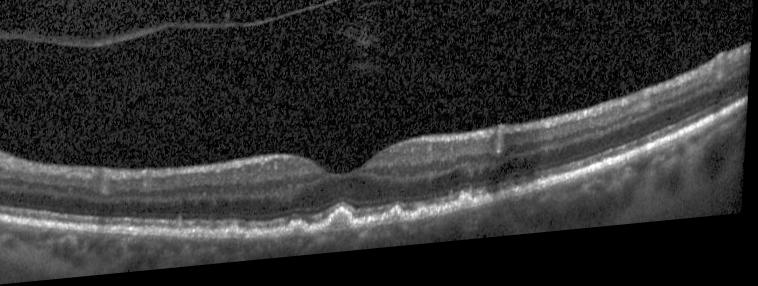retinal_drusen: (332, 217, 353, 239), (230, 229, 250, 245), (384, 218, 402, 232), (295, 232, 309, 244), (463, 207, 477, 218), (421, 219, 439, 227)
vitreous_detachment: (0, 0, 351, 48)
